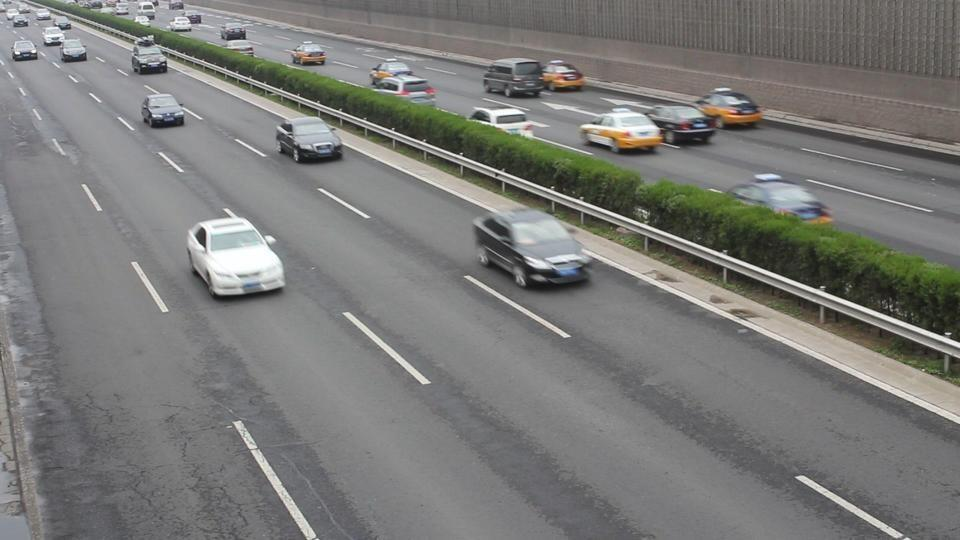car: (471, 207, 594, 289), (185, 212, 287, 299), (725, 175, 835, 226), (578, 108, 663, 154), (639, 103, 720, 146), (274, 116, 344, 163), (694, 87, 765, 128), (482, 57, 545, 99), (467, 102, 533, 139), (140, 94, 186, 128), (540, 60, 586, 92), (369, 61, 419, 90), (131, 36, 168, 74), (60, 37, 88, 62), (11, 38, 39, 61), (42, 29, 64, 46)
